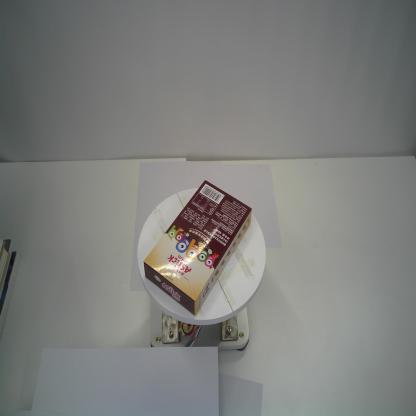Dessert: (141, 178, 254, 318)
